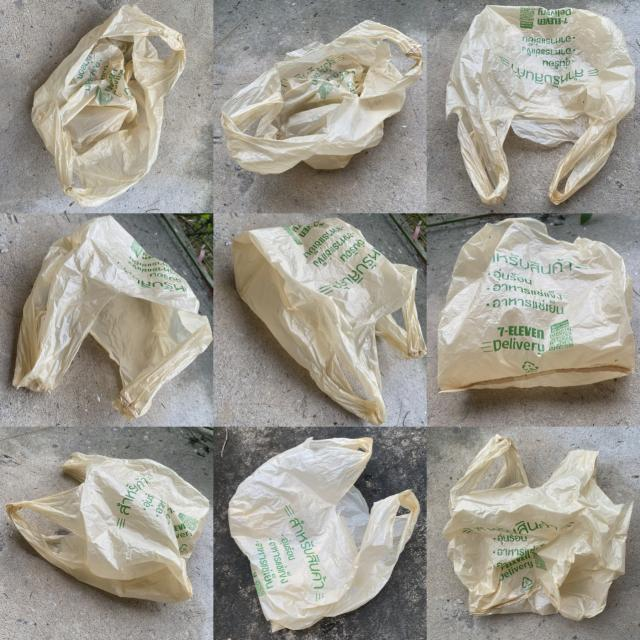Single-layer Plastic: (12, 216, 211, 420), (232, 218, 426, 424), (446, 5, 635, 204), (229, 438, 419, 631), (442, 435, 632, 619), (438, 218, 635, 392), (31, 5, 186, 206), (221, 21, 424, 174), (6, 452, 209, 602)
